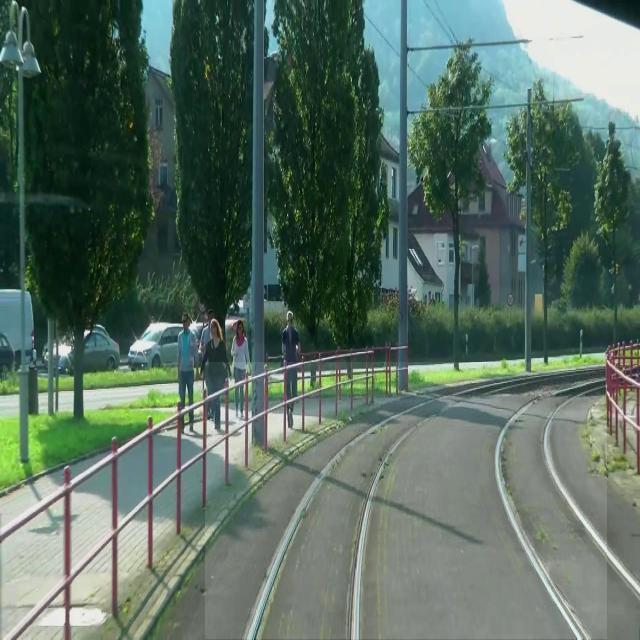rail: (207, 364, 608, 640)
